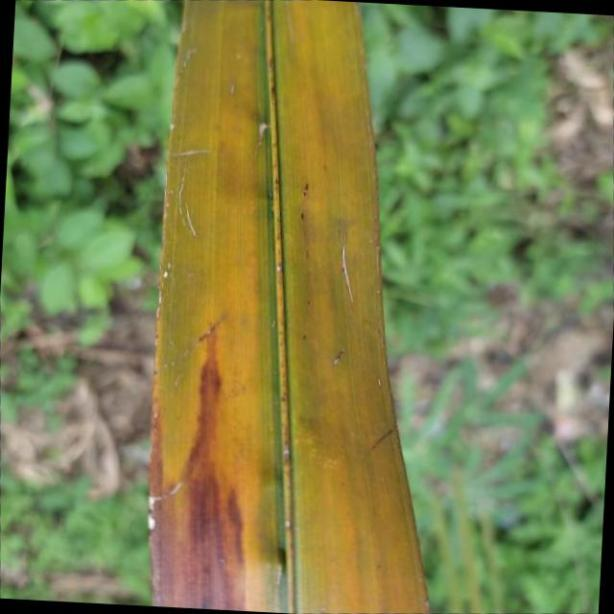Megnesium: (148, 0, 432, 614)
